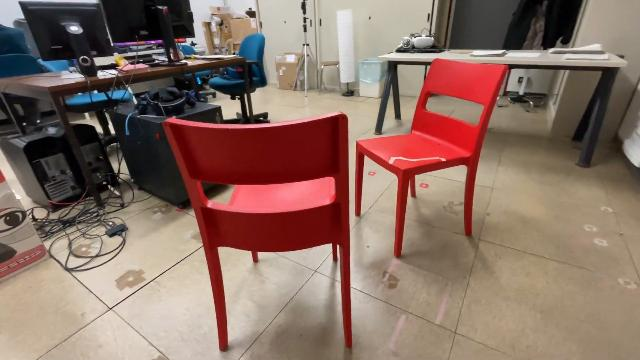Chair: (158, 107, 360, 356), (352, 56, 514, 264)
Lamp: (334, 6, 358, 98)
Stool: (316, 57, 344, 102)
